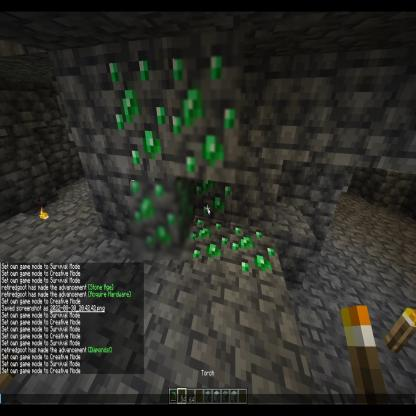emerald ore: (166, 32, 244, 180), (97, 38, 174, 182), (130, 170, 193, 260), (228, 222, 282, 286), (180, 218, 230, 278), (194, 174, 234, 230)
